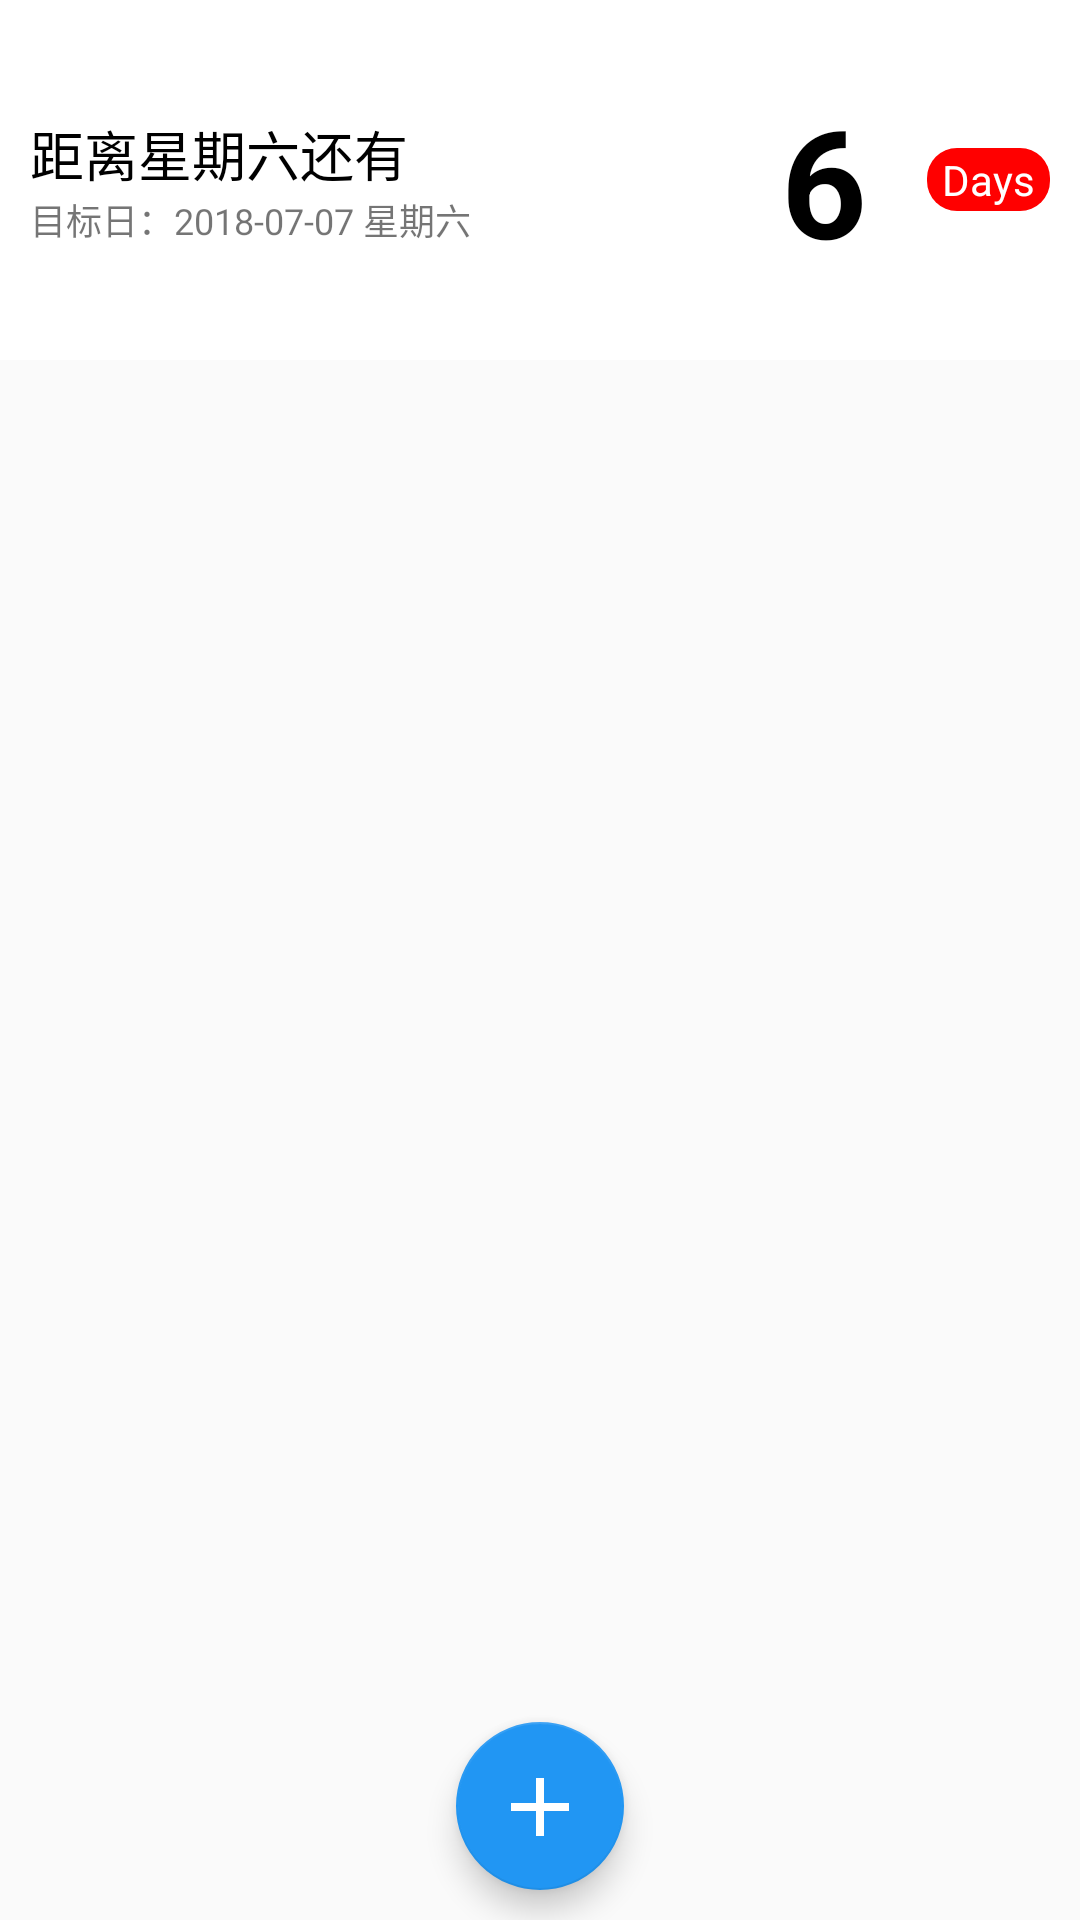

Screen size 1080px×1920px. Icon name, then its box in pixels as Rect(x1, y1, x2, y2):
add: Rect(456, 1722, 624, 1890)
